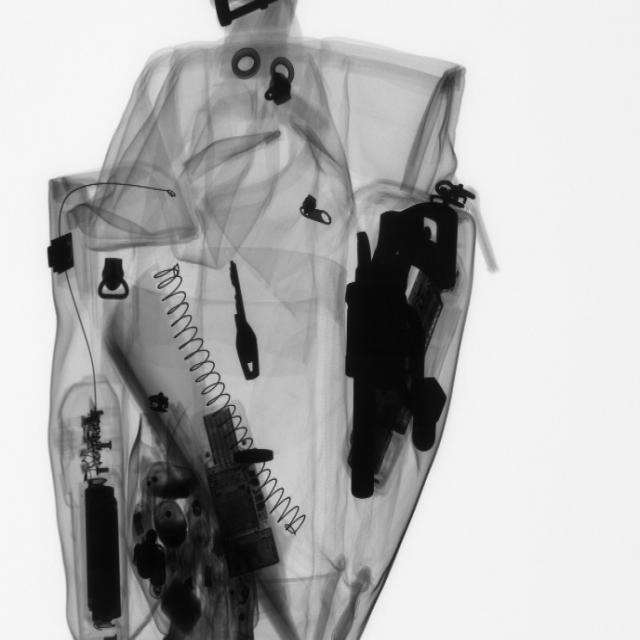GUN: (343, 165, 450, 519)
